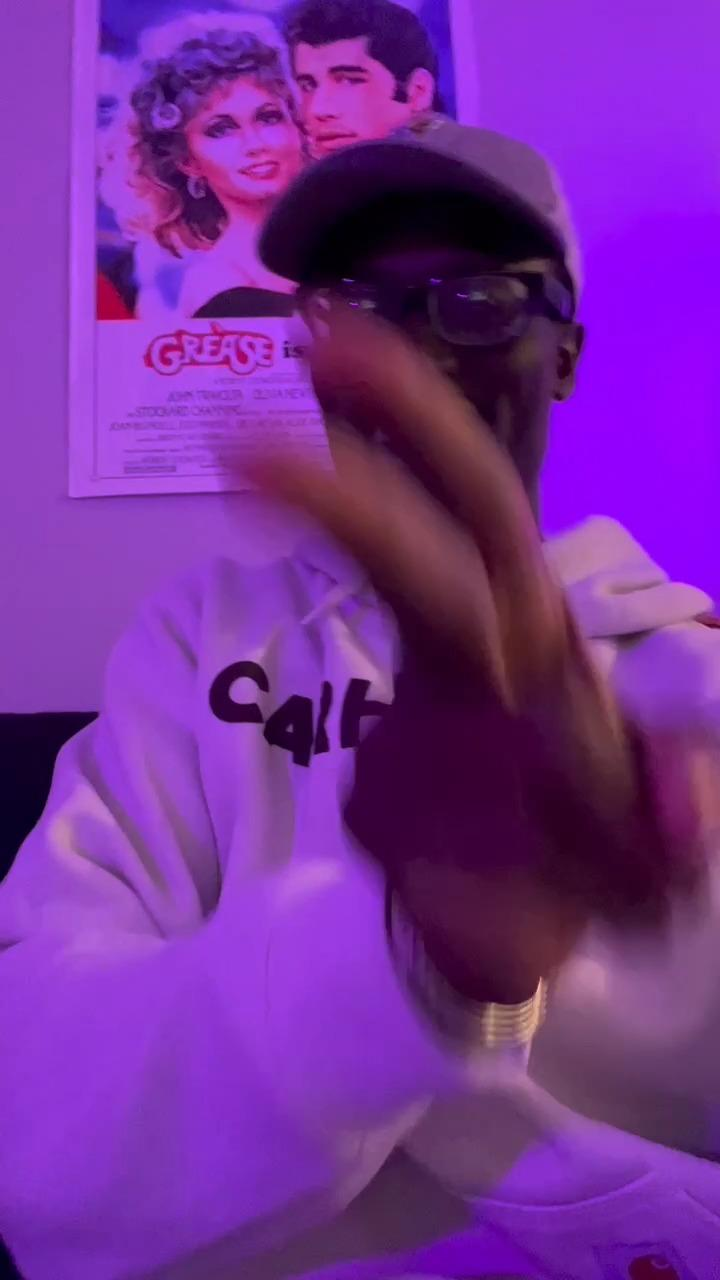Scissors: (210, 314, 720, 998)
